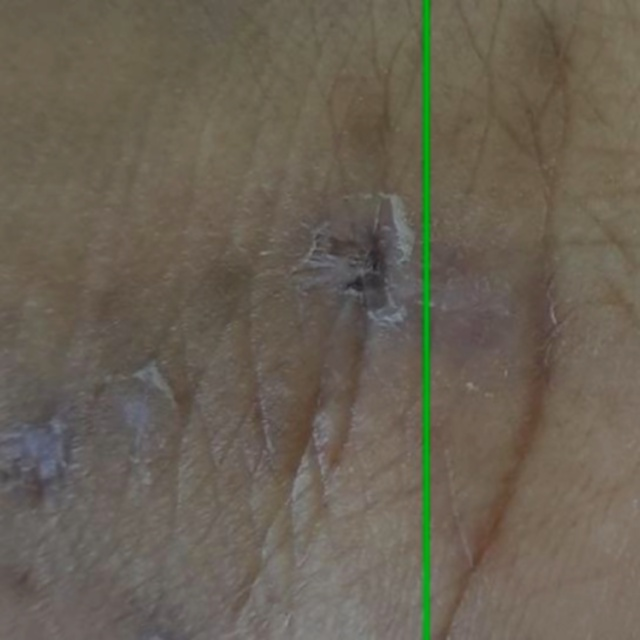Scabies: (426, 0, 639, 639)
